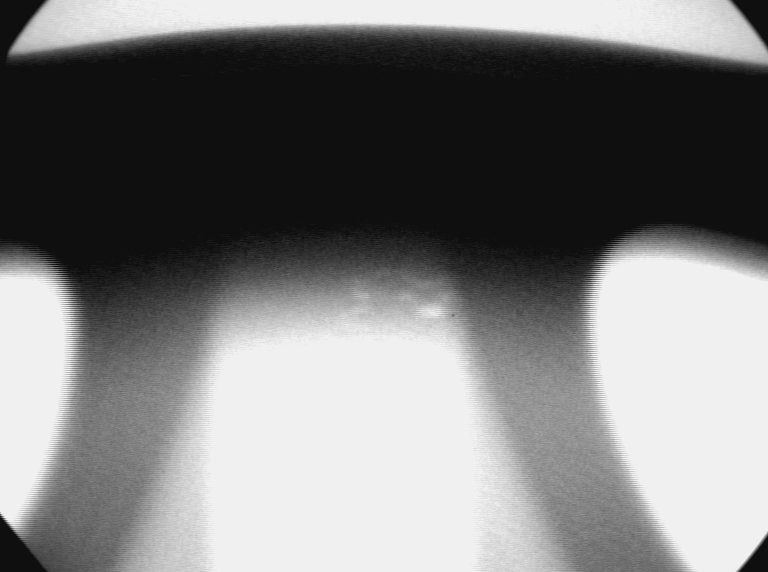defect: (335, 300, 380, 337)
